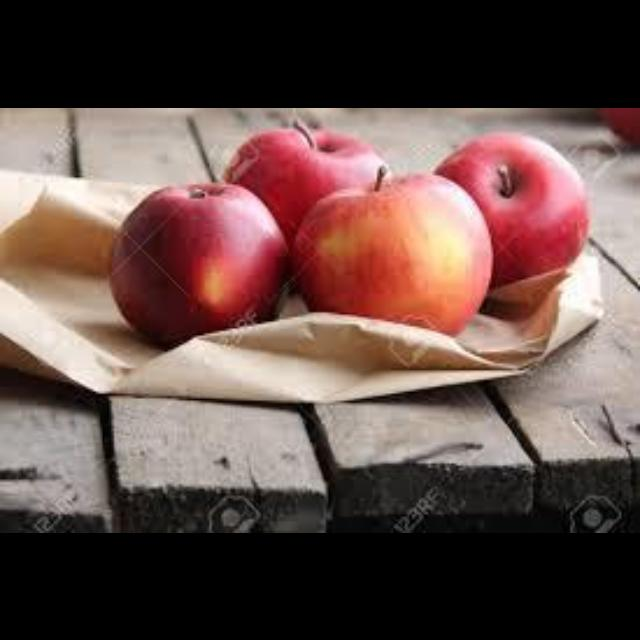apple: (293, 165, 491, 333), (109, 181, 286, 342), (435, 130, 589, 286), (223, 119, 384, 247)
